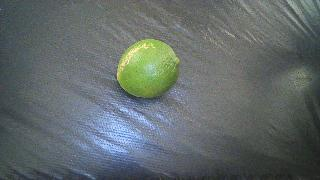DESECHO: (117, 39, 179, 98)
